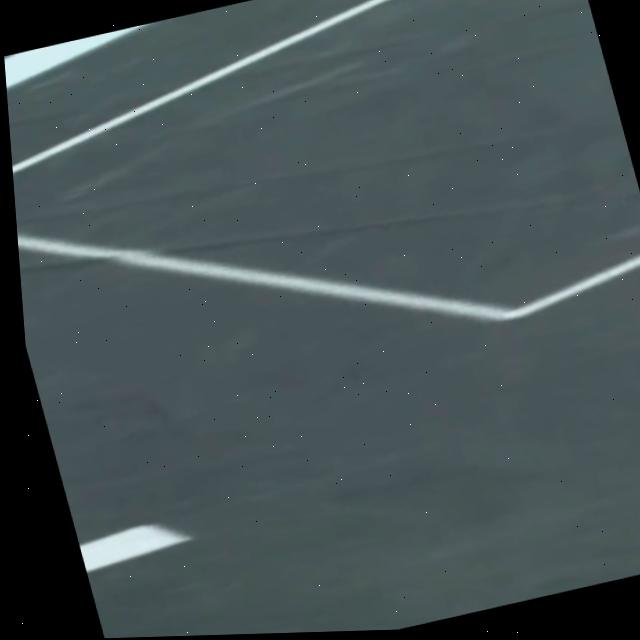center: (78, 524, 190, 573)
left: (4, 23, 149, 87)
